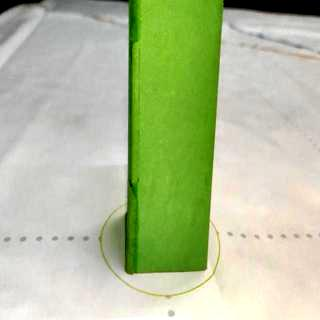greenbox: (130, 0, 222, 272)
